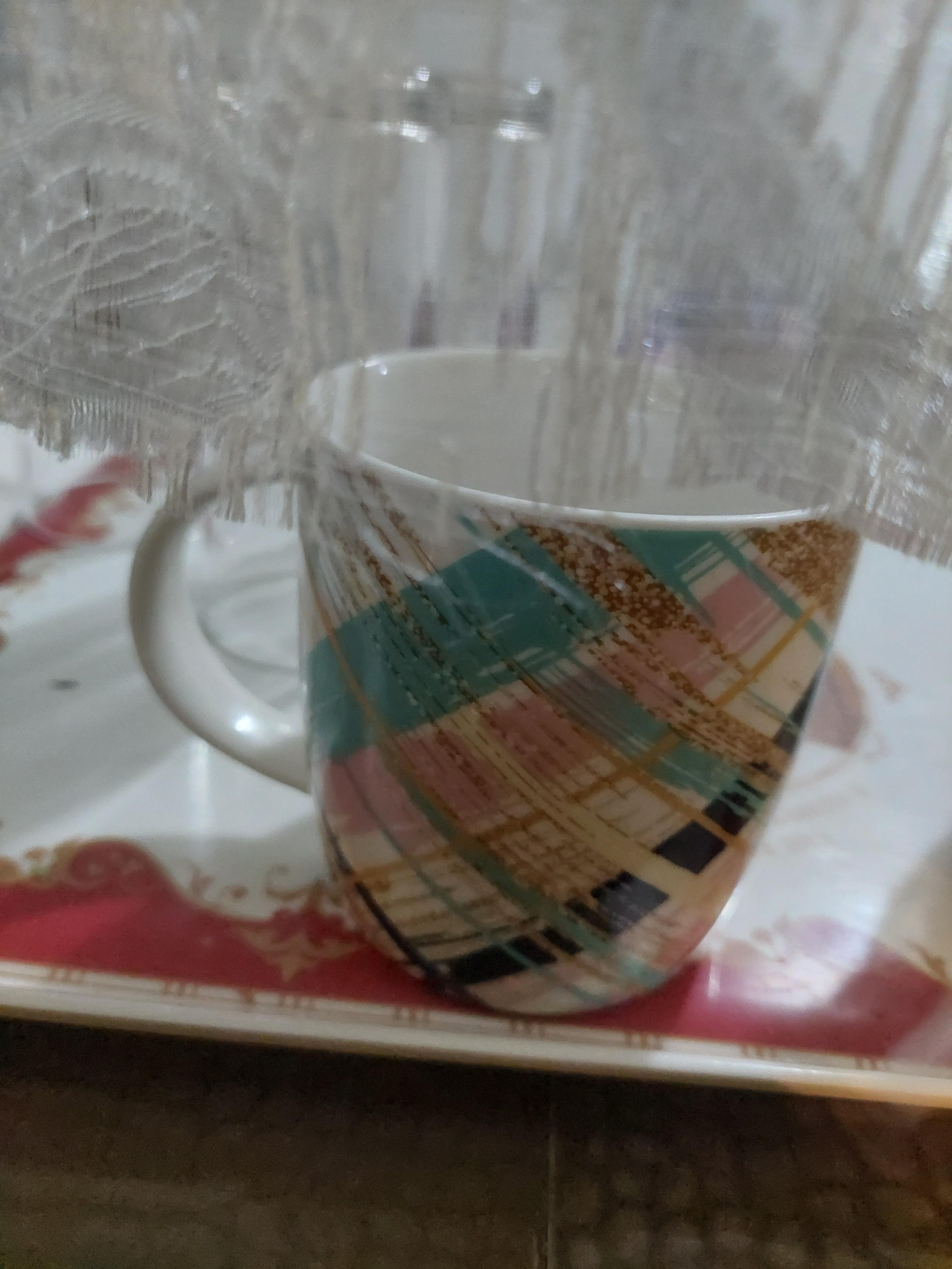mug: (126, 348, 865, 1016)
